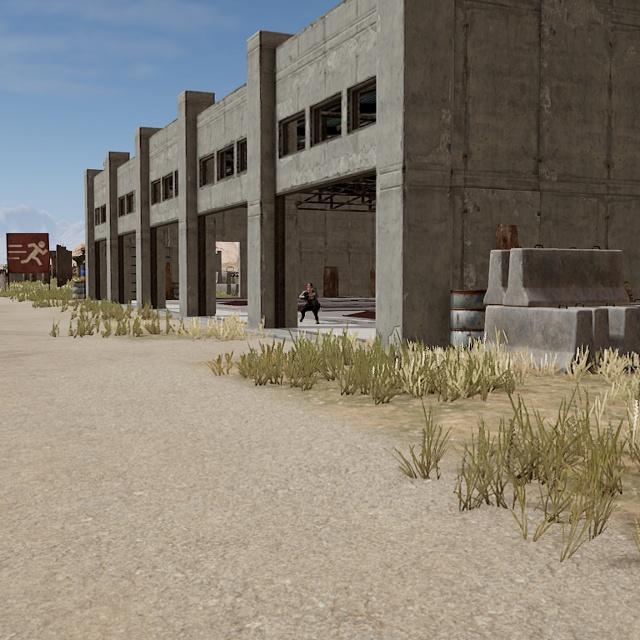head: (305, 281, 315, 294)
people: (298, 280, 322, 325)
